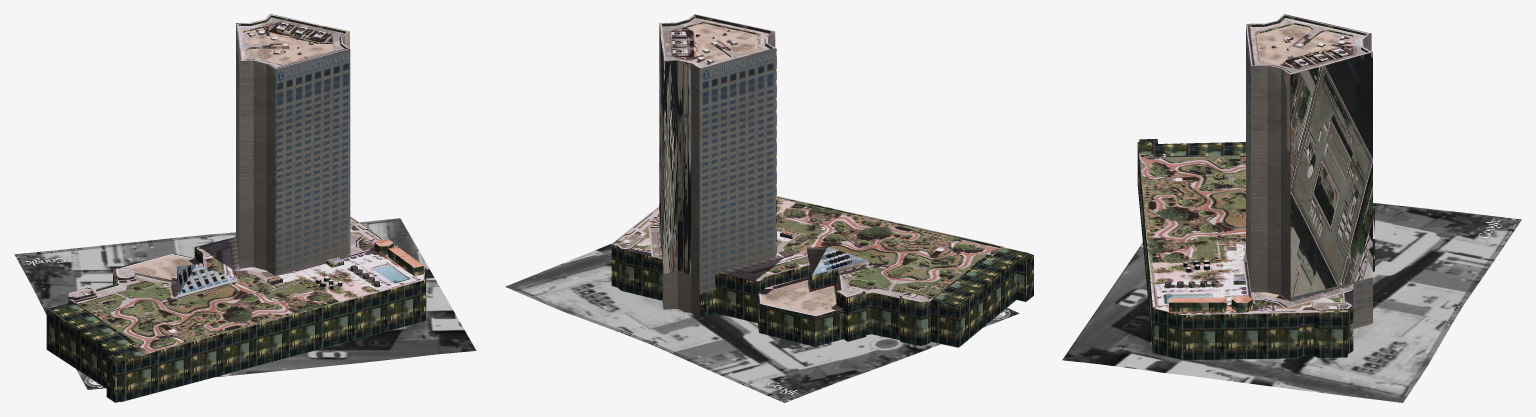
File: InterContinental[1].fbx
The picture shows the model from 3 angles, left to right: view 1: azimuth 30°, elevation 25°; view 2: azimuth 150°, elevation 25°; view 3: azimuth 270°, elevation 25°; orthographic projection. The views are drawn at different scales.
Visible parts, largest first — view 1: Model, Google_Earth_Terrain; view 2: Model, Google_Earth_Terrain; view 3: Model, Google_Earth_Terrain.
Part boxes in pixels (box(x1,y1,x2,y2)): Model: box(46, 14, 426, 402); Google_Earth_Terrain: box(14, 218, 476, 389); Model: box(611, 14, 1033, 347); Google_Earth_Terrain: box(505, 243, 1019, 402); Model: box(1137, 14, 1374, 360); Google_Earth_Terrain: box(1062, 203, 1521, 402).
Size of the model in its own units: 7667 by 4434 by 6752.
